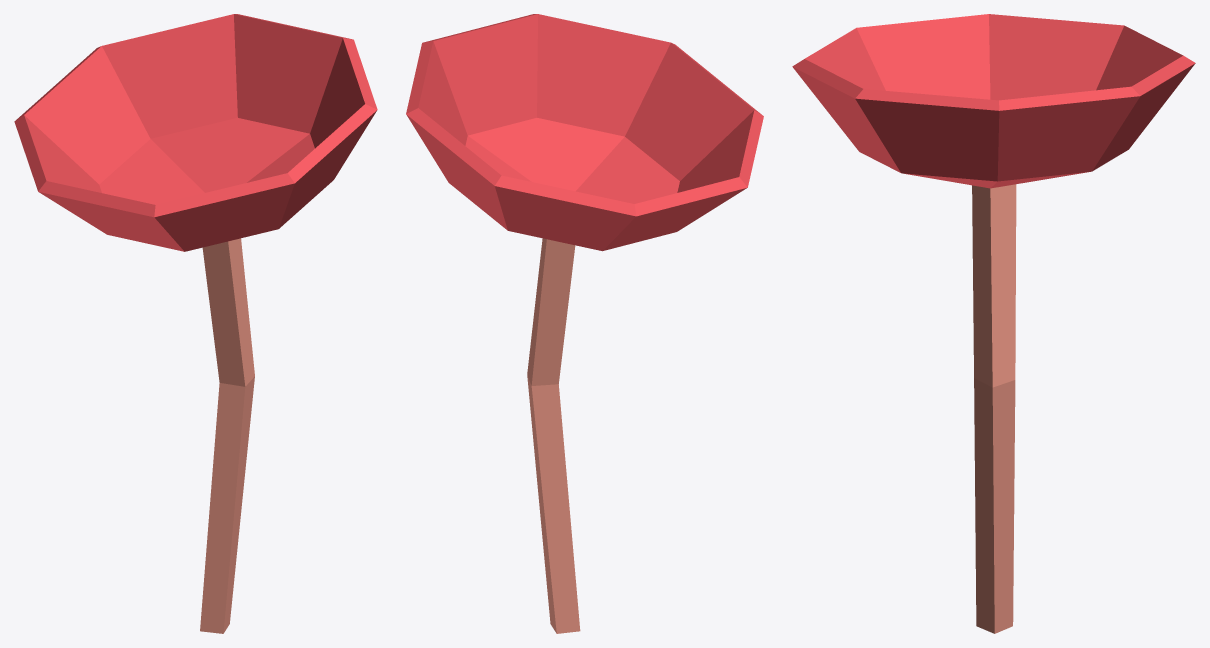
Rendered from Mushroom_d_02.fbx.
3 renders of one model, left to right at view 1: azimuth 30°, elevation 25°; view 2: azimuth 150°, elevation 25°; view 3: azimuth 270°, elevation 25°, orthographic. The views are drawn at different scales.
Parts seen in each view (by area): view 1: Mushroom_d_02; view 2: Mushroom_d_02; view 3: Mushroom_d_02.
Part boxes in pixels (box(x1,y1,x2,y2)): Mushroom_d_02: box(14, 14, 377, 633); Mushroom_d_02: box(406, 14, 763, 633); Mushroom_d_02: box(792, 14, 1195, 633).
Size of the model in its own units: 0.2061 by 0.3416 by 0.2106.
